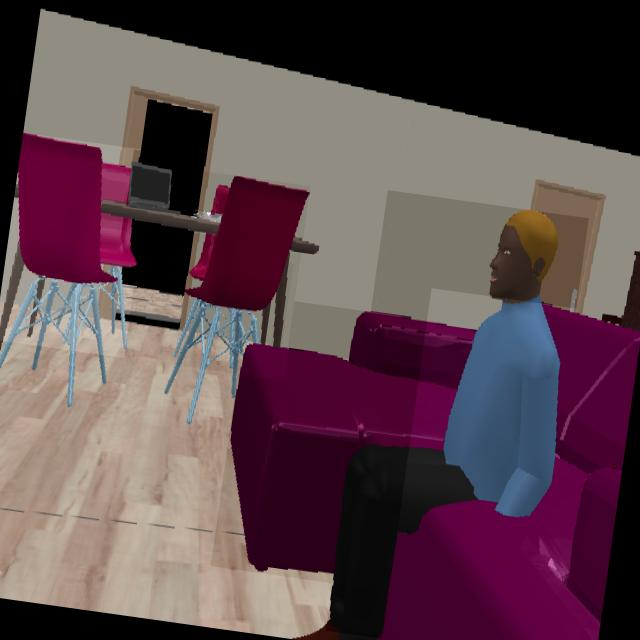chair: (4, 133, 137, 355), (174, 177, 309, 373)
laptop: (129, 152, 185, 215)
person: (329, 211, 561, 638)
sofa: (383, 305, 640, 640), (230, 312, 476, 572)
table: (101, 202, 221, 236), (274, 263, 289, 348), (291, 239, 320, 255)
